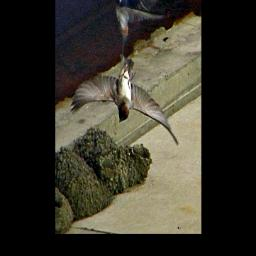Swallow: (68, 51, 181, 147)
